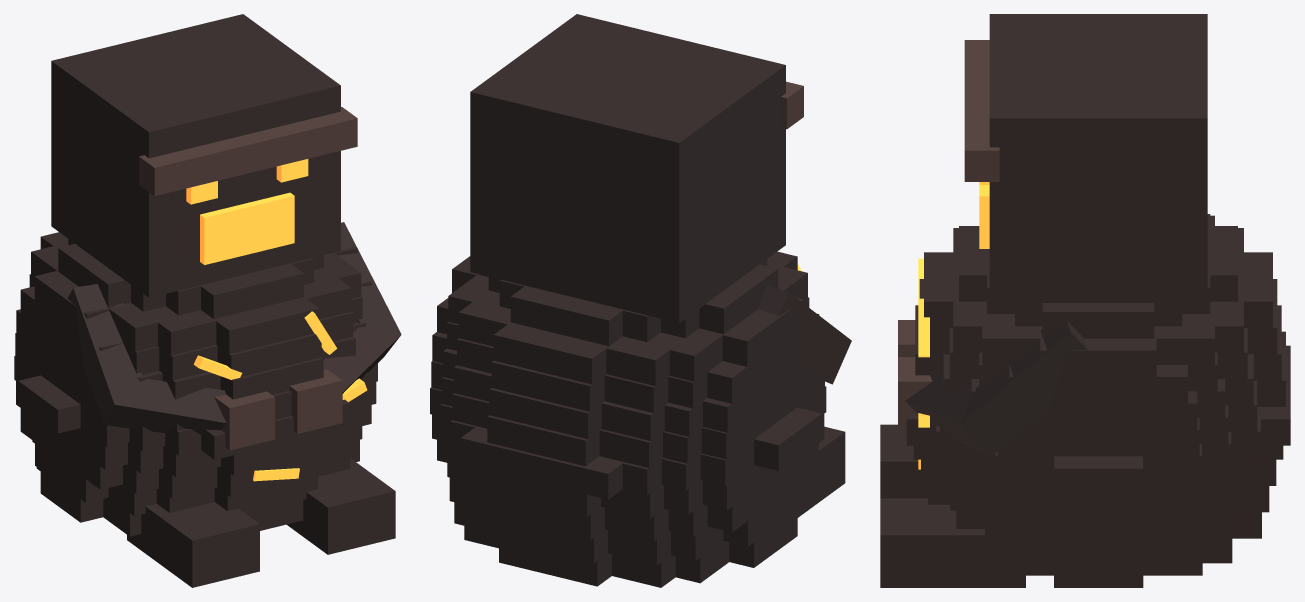
The picture shows the model from 3 angles, left to right: view 1: azimuth 30°, elevation 25°; view 2: azimuth 150°, elevation 25°; view 3: azimuth 270°, elevation 25°; orthographic projection. The views are drawn at different scales.
Visible parts, largest first — view 1: R057_Main, R057_Accent, R057_Glow; view 2: R057_Main, R057_Accent; view 3: R057_Main, R057_Accent, R057_Glow.
Part boxes in pixels (x1=…): R057_Main: x1=14, y1=14, x2=401, y2=587; R057_Accent: x1=139, y1=107, x2=357, y2=450; R057_Glow: x1=186, y1=159, x2=367, y2=481; R057_Main: x1=430, y1=14, x2=851, y2=587; R057_Accent: x1=781, y1=81, x2=803, y2=129; R057_Main: x1=880, y1=14, x2=1290, y2=587; R057_Accent: x1=898, y1=40, x2=999, y2=428; R057_Glow: x1=918, y1=182, x2=989, y2=469.
Bounding box in the file's own units: 1.4 × 1.77 × 1.41.
